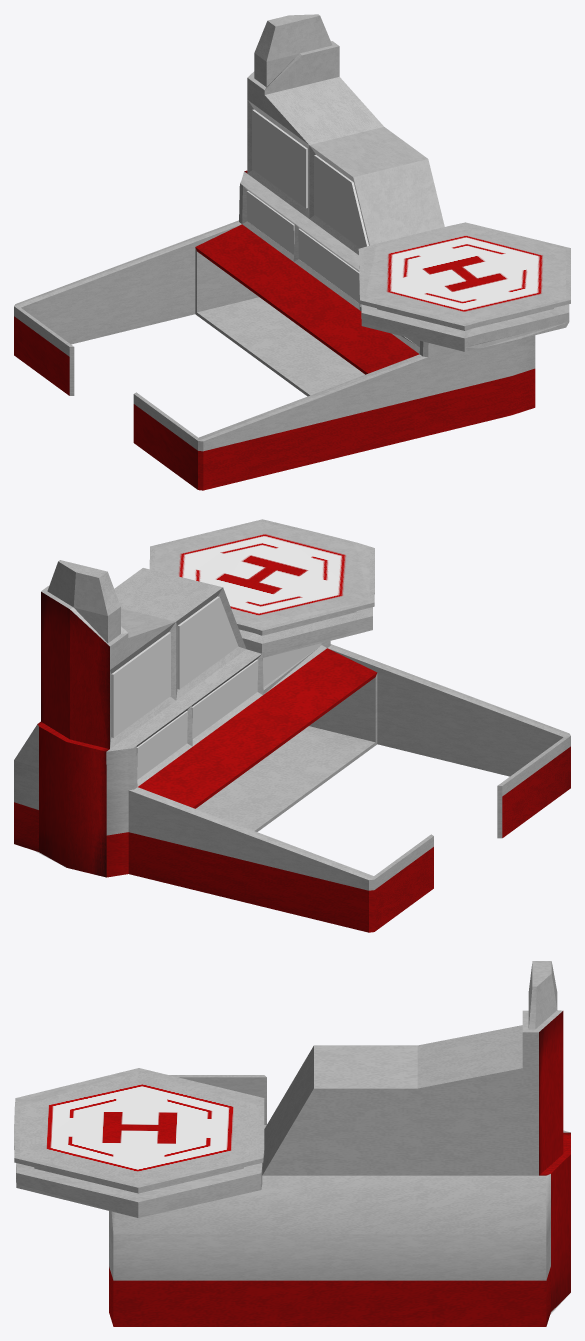
File: HeadQuarter.FBX
3 renders of one model, top to bottom at view 1: azimuth 30°, elevation 25°; view 2: azimuth 150°, elevation 25°; view 3: azimuth 270°, elevation 25°, orthographic. The views are drawn at different scales.
Parts seen in each view (by area): view 1: ceistalesHQ, Object004; view 2: ceistalesHQ, Object004; view 3: ceistalesHQ.
Part boxes in pixels (box(x1,y1,x2,y2)): ceistalesHQ: box(14, 14, 570, 490); Object004: box(246, 109, 419, 347); ceistalesHQ: box(14, 519, 570, 932); Object004: box(111, 596, 321, 779); ceistalesHQ: box(14, 961, 570, 1326).
Bounding box in the file's own units: 341 × 230 × 364.
Materials: 1 (1 with a texture image).
